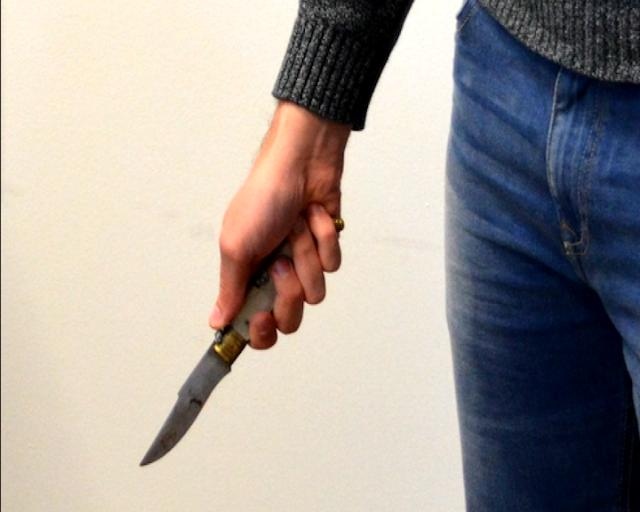pocket-knife: (129, 194, 343, 462)
